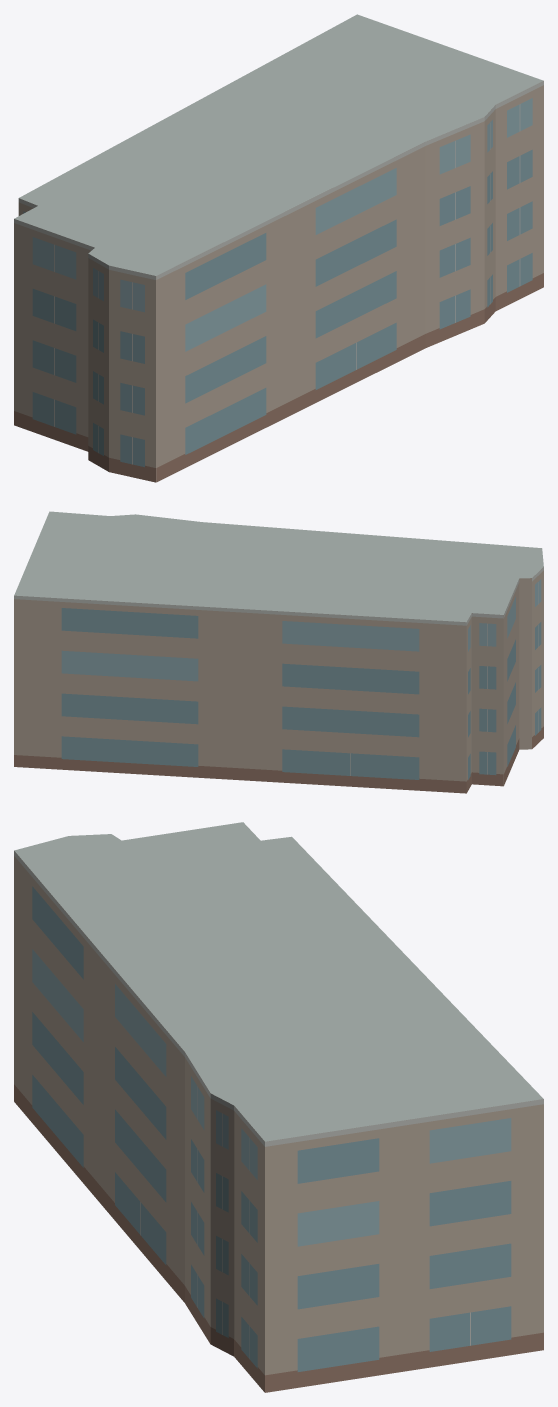
File: survey-upis-32621885.glb
3 views of the same model, one above another, from view 1: azimuth 30°, elevation 25°; view 2: azimuth 150°, elevation 25°; view 3: azimuth 270°, elevation 25° (orthographic). The views are drawn at different scales.
Visible parts, largest first — view 1: survey-upis-32621885.tmp; view 2: survey-upis-32621885.tmp; view 3: survey-upis-32621885.tmp.
Part boxes in pixels (box(x1,y1,x2,y2)): survey-upis-32621885.tmp: box(14, 14, 543, 482); survey-upis-32621885.tmp: box(14, 511, 543, 793); survey-upis-32621885.tmp: box(14, 822, 543, 1392).
Size of the model in its own units: 32.5 by 11.9 by 22.76.
